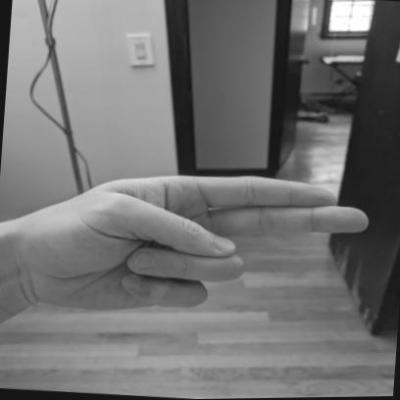hand: (25, 156, 375, 334)
